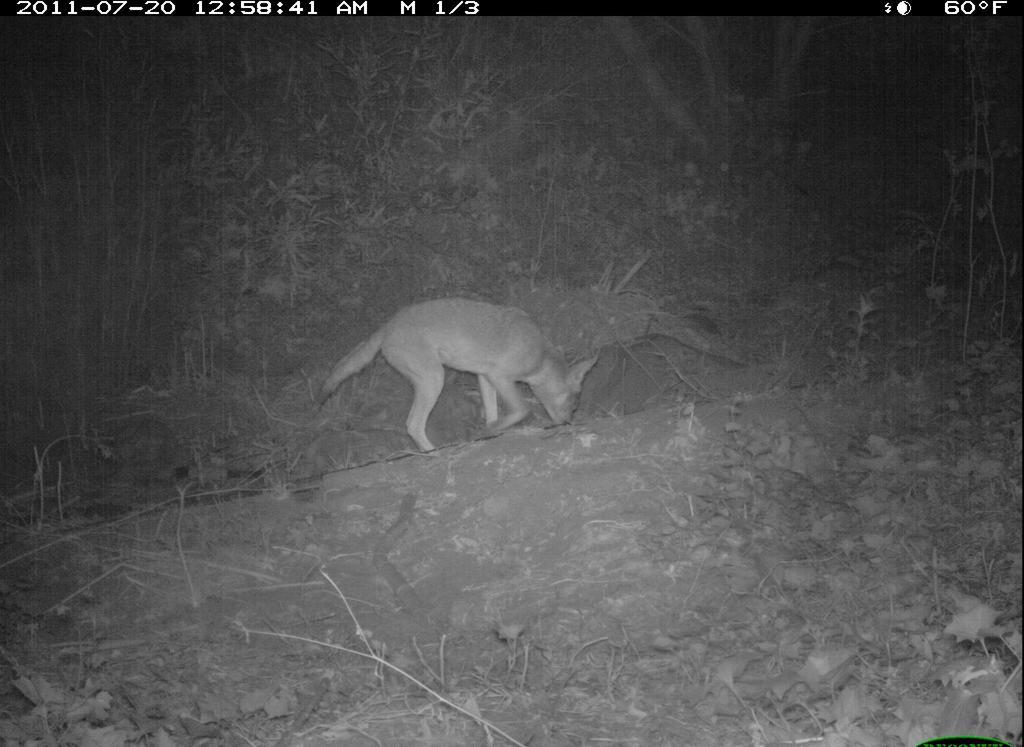coyote: (304, 271, 609, 463)
